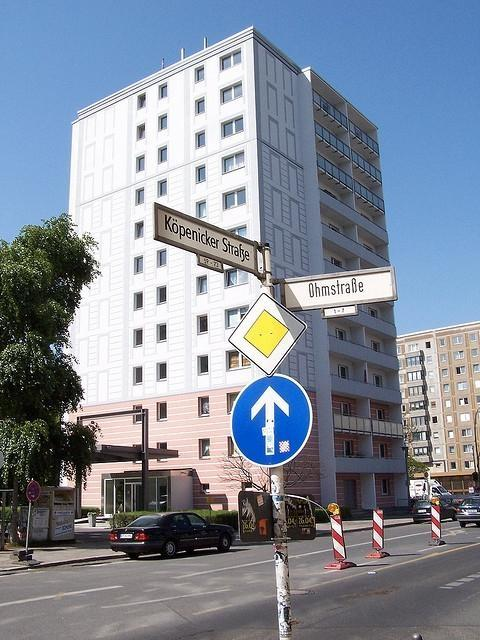car: (110, 512, 236, 560), (412, 500, 456, 523), (455, 497, 480, 528)
